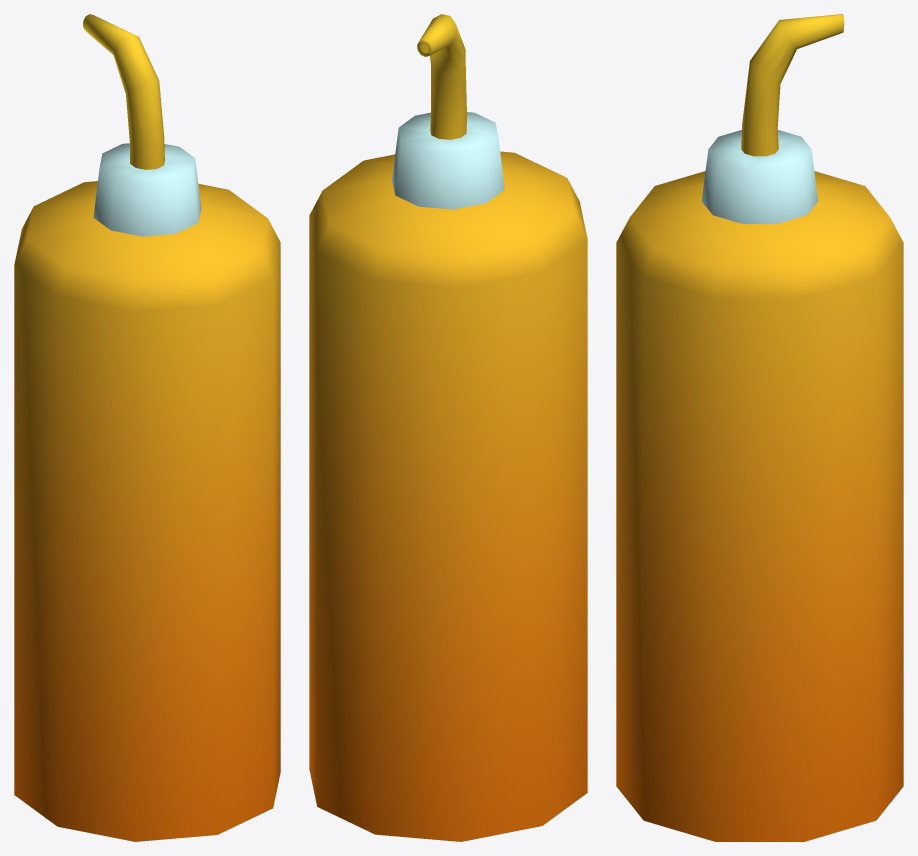
File: pumpbottle_orange.fbx
The picture shows the model from 3 angles, left to right: view 1: azimuth 30°, elevation 25°; view 2: azimuth 150°, elevation 25°; view 3: azimuth 270°, elevation 25°; orthographic projection. The views are drawn at different scales.
Visible parts, largest first — view 1: pumpbottle_orange; view 2: pumpbottle_orange; view 3: pumpbottle_orange.
Part boxes in pixels (bbox=[...]): pumpbottle_orange: bbox=[14, 14, 280, 841]; pumpbottle_orange: bbox=[309, 14, 587, 841]; pumpbottle_orange: bbox=[616, 14, 903, 841].
Size of the model in its own units: 105 by 335 by 114.
